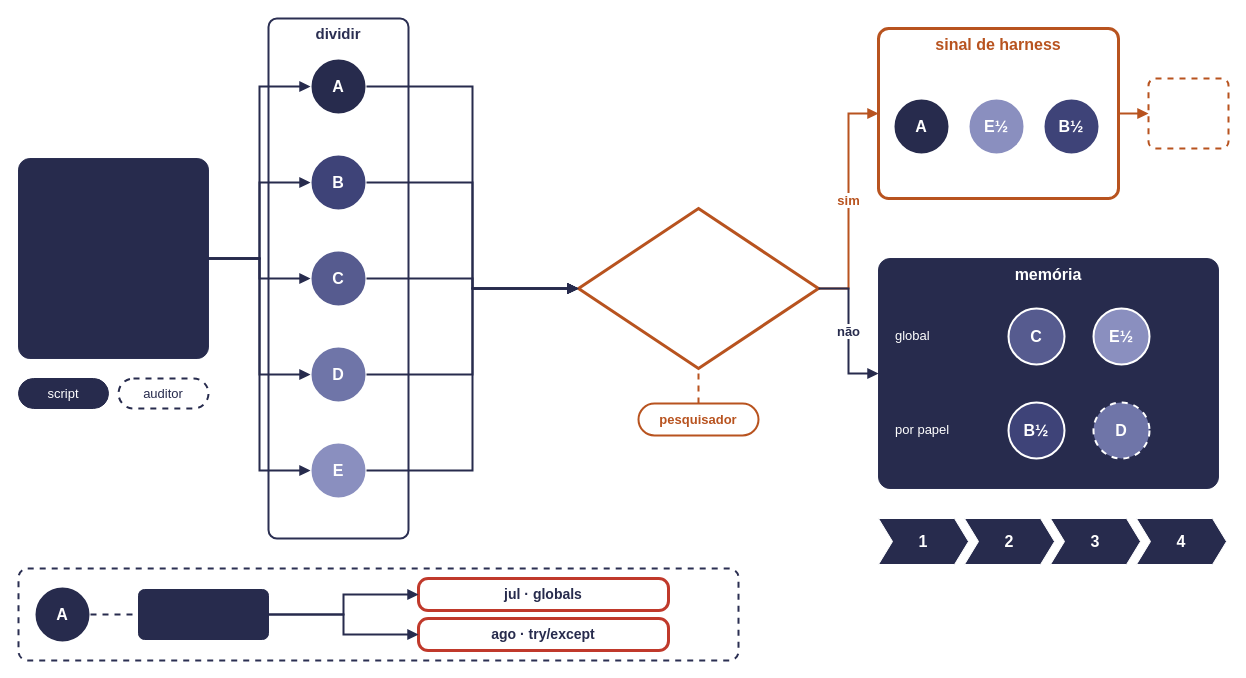
This 1246x678 diagram has some shape labels left out. Here are the shapes that lost their labels. From the top down, the centre of each, then its label:
(1188,113): conserto no prompt
(113,258): U_sandbox 3.653
(698,288): prompt induz o erro?
(203,614): prompt
